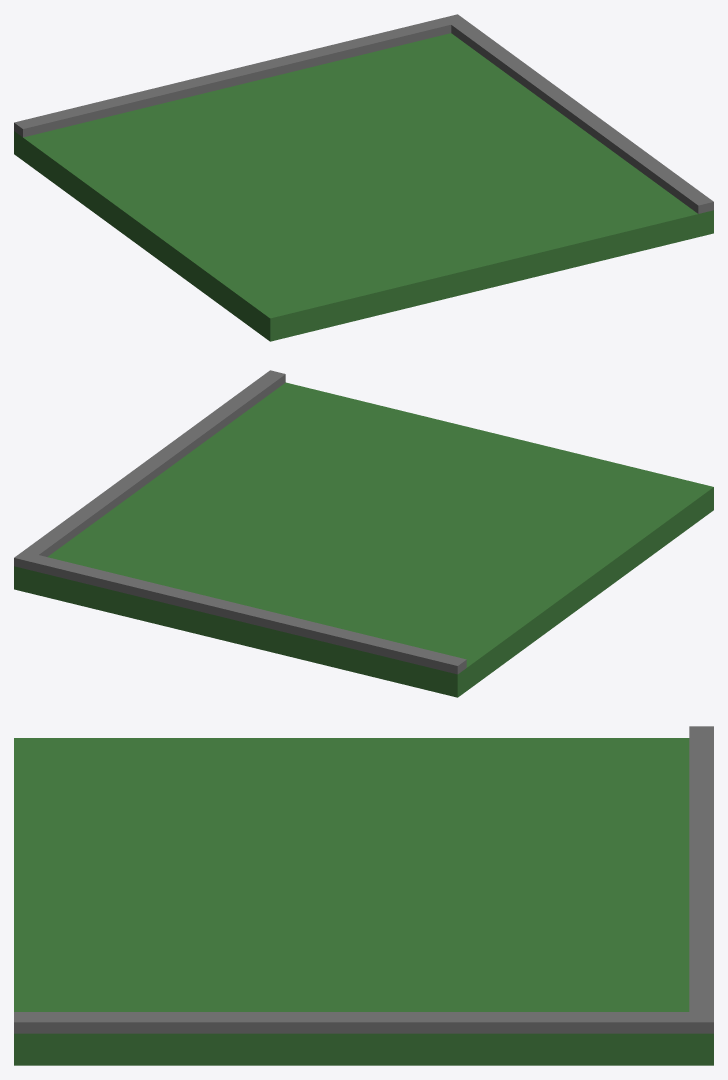
Rendered from SM_Factory_Grass_03.glb.
3 renders of one model, top to bottom at view 1: azimuth 30°, elevation 25°; view 2: azimuth 150°, elevation 25°; view 3: azimuth 270°, elevation 25°, orthographic. The views are drawn at different scales.
Parts seen in each view (by area): view 1: SM_Factory_Grass_03; view 2: SM_Factory_Grass_03; view 3: SM_Factory_Grass_03.
Part boxes in pixels (bbox=[...]): SM_Factory_Grass_03: bbox=[14, 14, 713, 341]; SM_Factory_Grass_03: bbox=[14, 370, 713, 697]; SM_Factory_Grass_03: bbox=[14, 726, 713, 1065].
Bounding box in the file's own units: 5 × 0.3407 × 5.
Materials: 1 (1 with a texture image).
